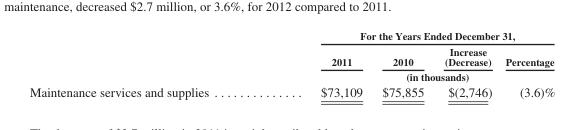table: (28, 29, 554, 98)
table column: (28, 29, 264, 98), (264, 29, 371, 98), (433, 29, 498, 98), (371, 29, 433, 98), (498, 29, 554, 98)
table column header: (28, 29, 554, 83)
table row: (28, 43, 554, 68), (28, 68, 554, 83), (28, 83, 554, 98), (28, 29, 554, 43)
table spanning cell: (264, 68, 554, 83), (264, 29, 554, 43)
